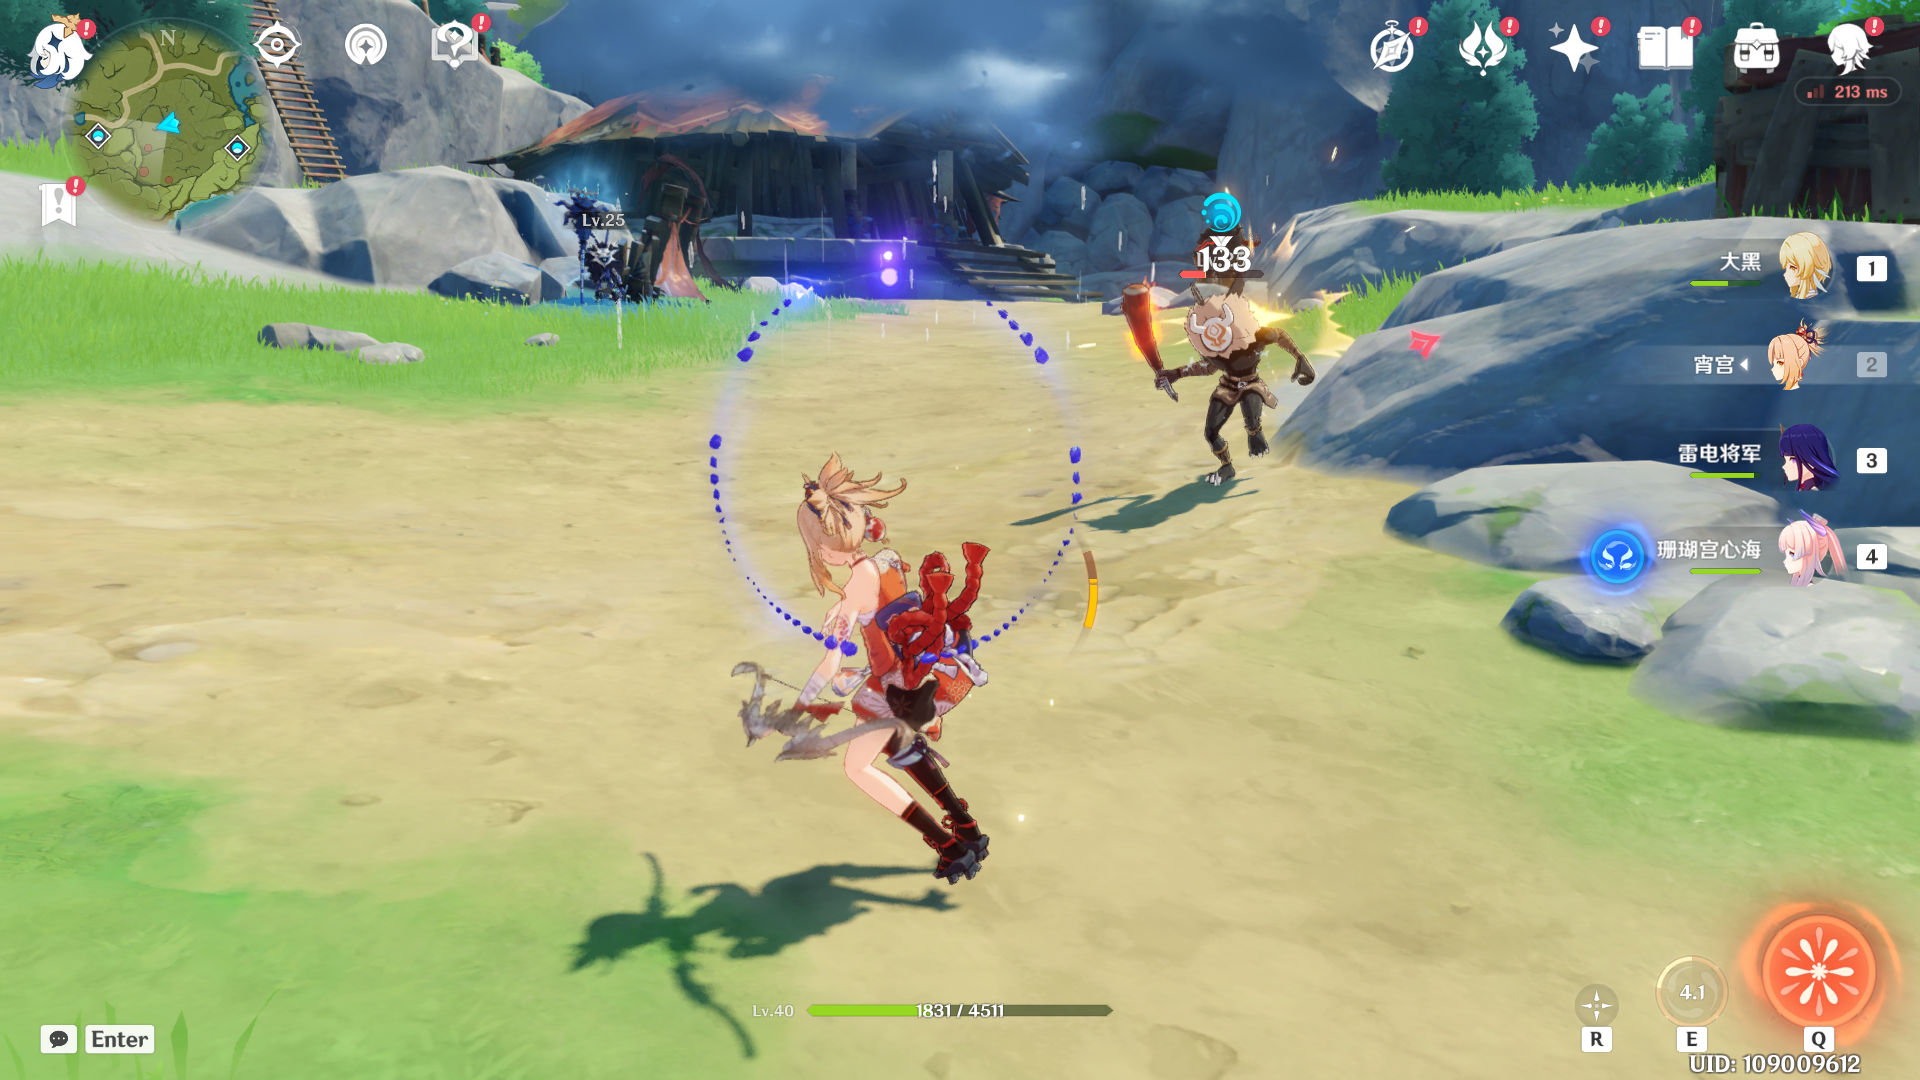character: (727, 455, 1069, 934)
hili: (1116, 266, 1338, 510), (538, 178, 647, 309)
